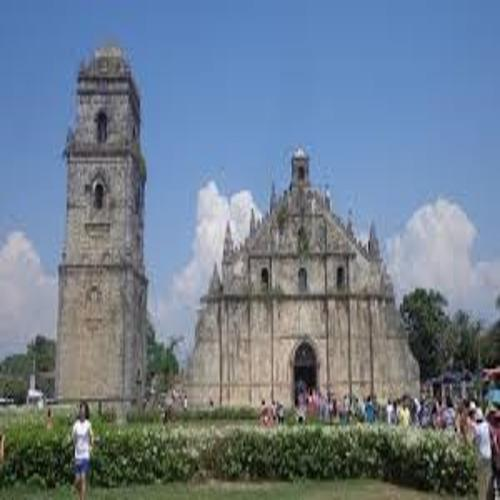Paoay Church: (42, 36, 429, 420)
